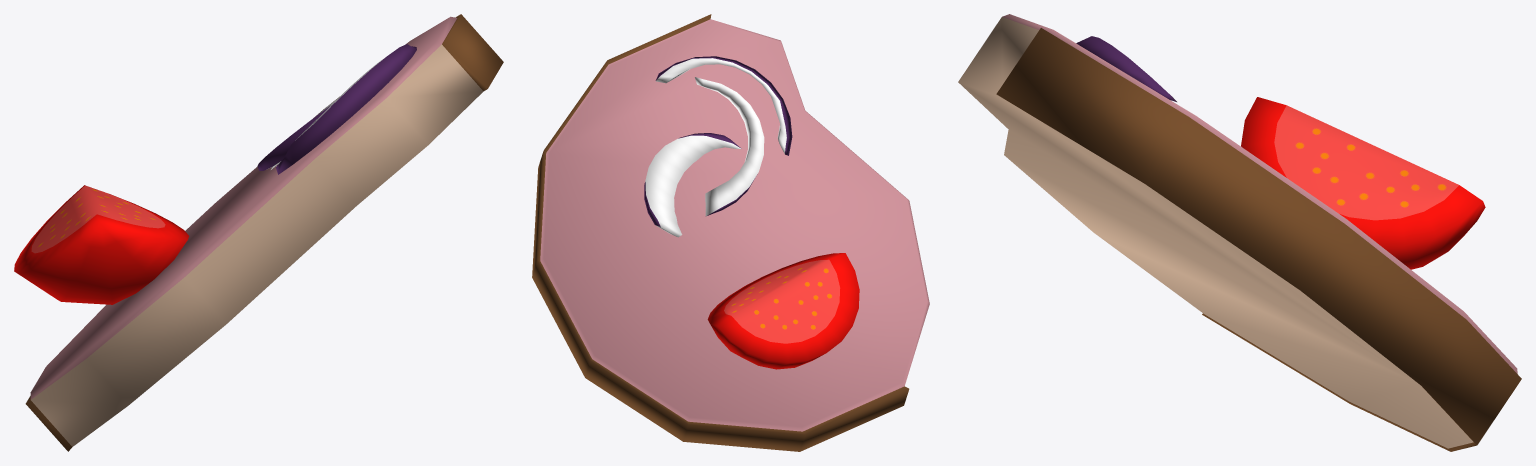
Rendered from dalmatinski sendvic.fbx.
The picture shows the model from 3 angles, left to right: view 1: azimuth 30°, elevation 25°; view 2: azimuth 150°, elevation 25°; view 3: azimuth 270°, elevation 25°; orthographic projection. The views are drawn at different scales.
Parts seen in each view (by area): view 1: Dalmatinski sendvic; view 2: Dalmatinski sendvic; view 3: Dalmatinski sendvic.
Part boxes in pixels (x1,y1,x2,y2): Dalmatinski sendvic: (14,14,503,451); Dalmatinski sendvic: (532,14,929,451); Dalmatinski sendvic: (958,14,1521,451).
Size of the model in its own units: 739 by 643 by 630.
